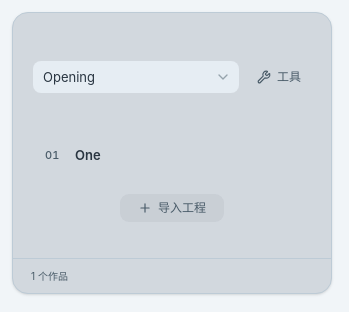
folder dropdown integration (#153) › localizes the tool and return controls while keeping custom names
This screenshot has width=349, height=312.
Click the button "工具" at [279, 77], box [247,61,311,93]
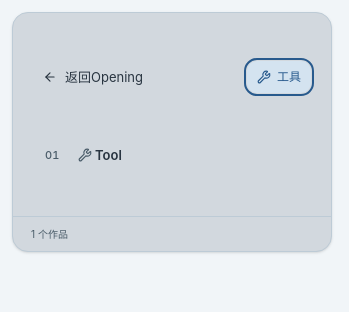
Expected: the button "返回Opening" is shown, [33,61,239,93]
